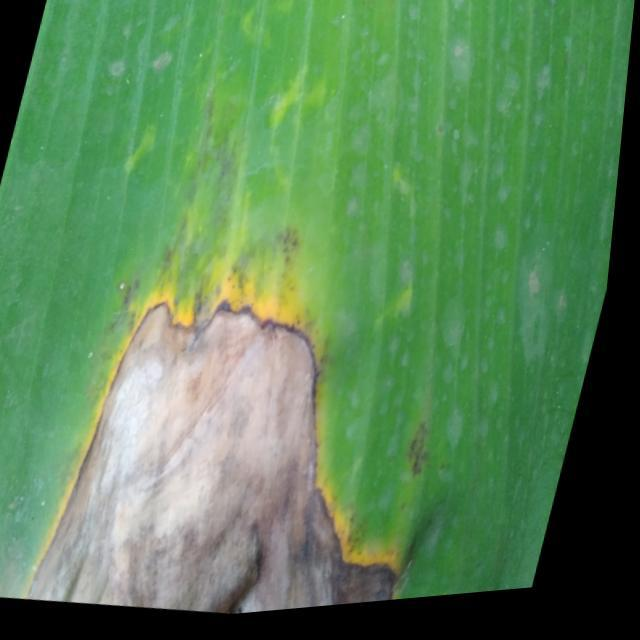Early_rust: (14, 248, 438, 614)
